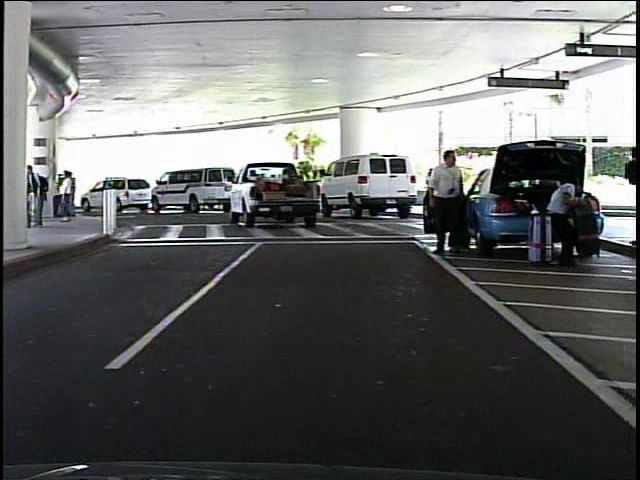person: (423, 146, 471, 258), (540, 169, 588, 267), (617, 143, 640, 248)
